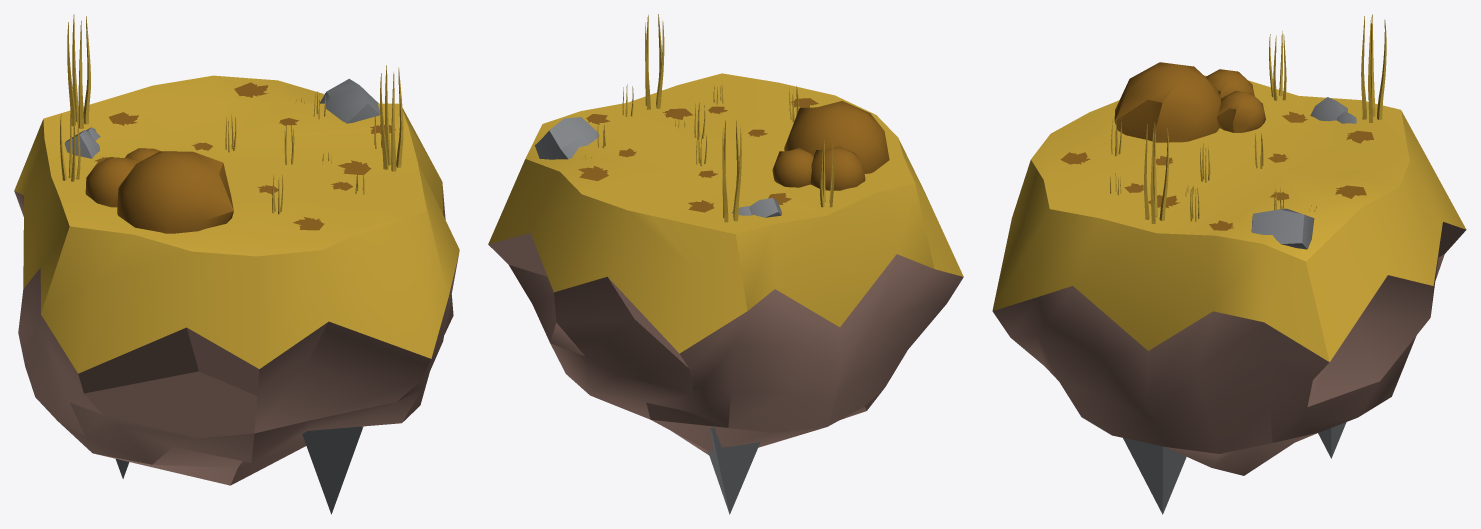
File: small_island_fall_2.fbx
3 views of the same model, side by side, from view 1: azimuth 30°, elevation 25°; view 2: azimuth 150°, elevation 25°; view 3: azimuth 270°, elevation 25° (orthographic). The views are drawn at different scales.
Visible parts, largest first — view 1: Island_Autumn_2.001; view 2: Island_Autumn_2.001; view 3: Island_Autumn_2.001.
Boxes of the visible parts, x1,y1,x2,y2 form: Island_Autumn_2.001: [14, 14, 459, 514]; Island_Autumn_2.001: [488, 14, 963, 514]; Island_Autumn_2.001: [992, 14, 1466, 514].
Bounding box in the file's own units: 241 × 248 × 247.
